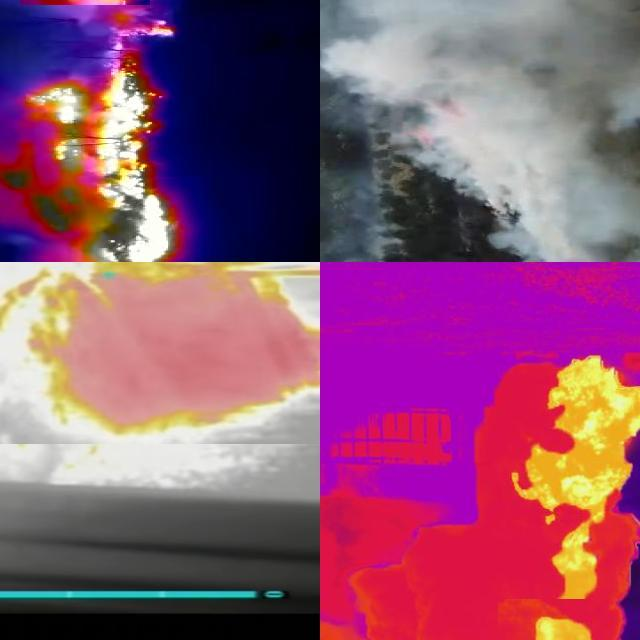fire: (1, 263, 321, 444), (1, 19, 177, 263), (504, 446, 640, 517), (535, 350, 640, 440), (546, 519, 619, 587), (499, 599, 610, 640)
